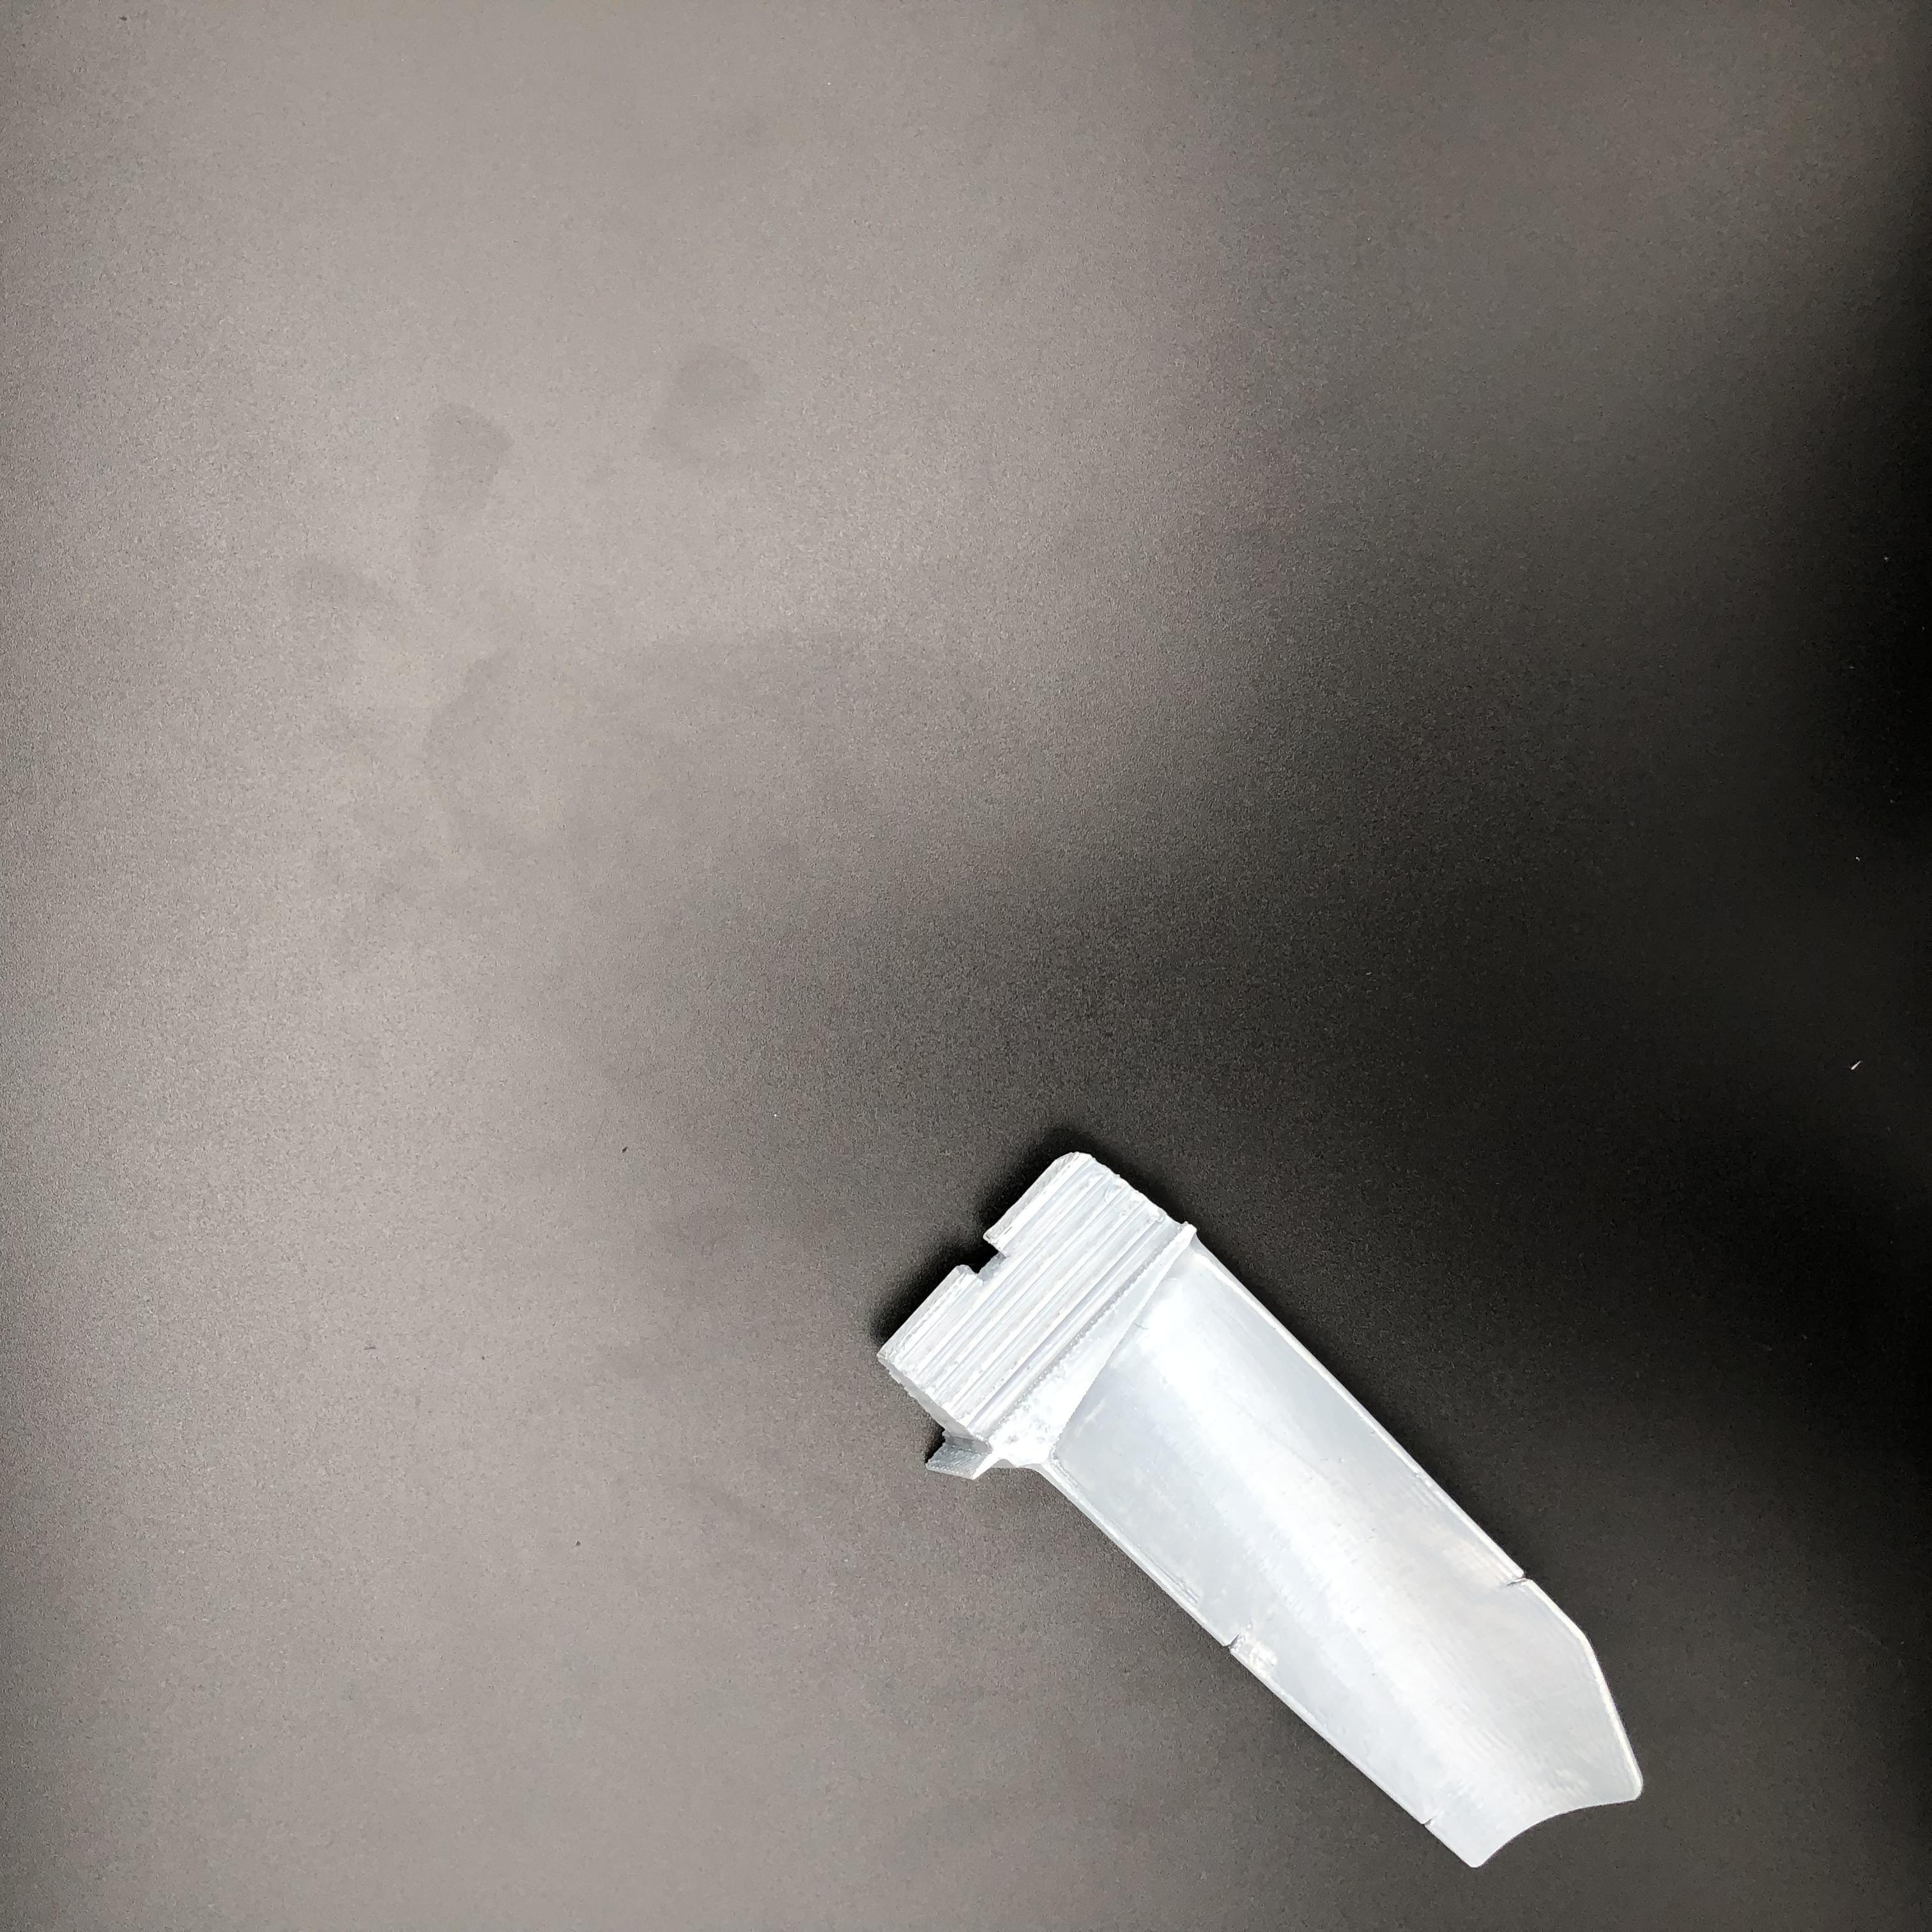groove: (1504, 1566, 1536, 1596), (1223, 1626, 1249, 1660)
